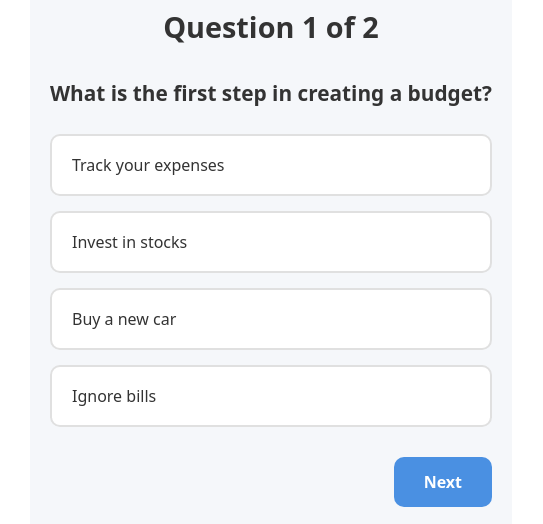
Test: Quiz › calculates and saves score on submit
Click the button "Track your expenses" at {"x": 148, "y": 165}, box 50,134 -> 492,196
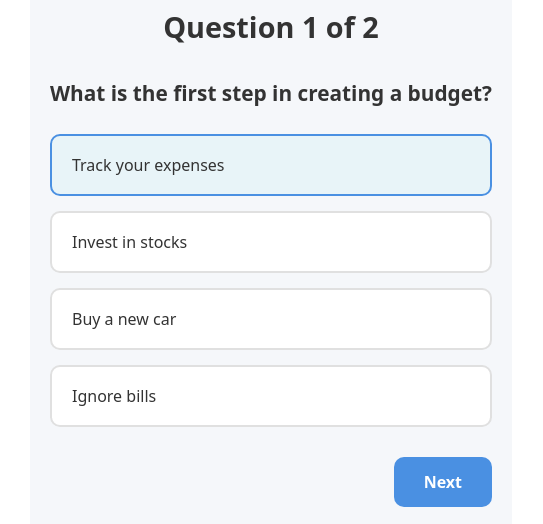
Click the button "Next" at {"x": 443, "y": 482}, box 394,457 -> 492,507
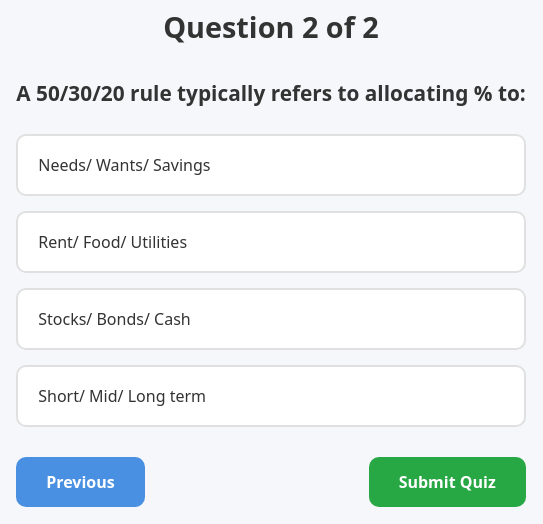
Click the button "Needs/ Wants/ Savings" at {"x": 124, "y": 165}, box 16,134 -> 526,196
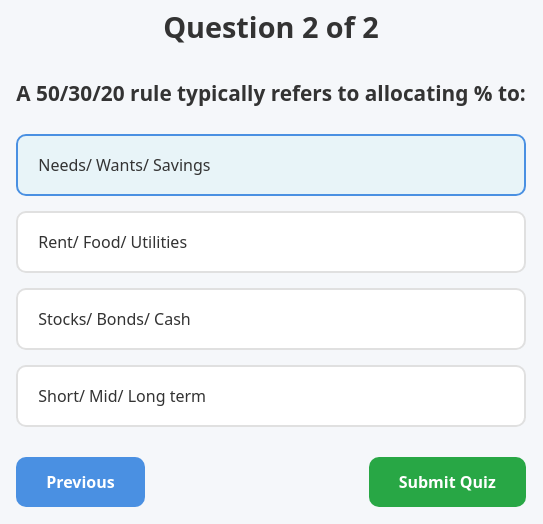
Note: Submit quiz
Click the button "Submit Quiz" at {"x": 447, "y": 482}, box 369,457 -> 526,507
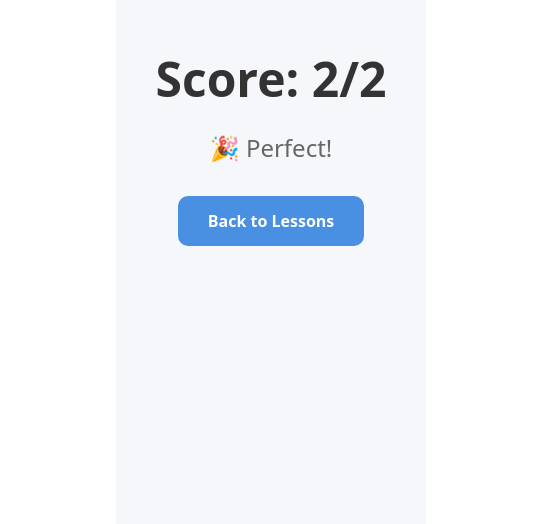
Expected: the heading "Score: 2/2" is shown, 156,53 -> 386,106
